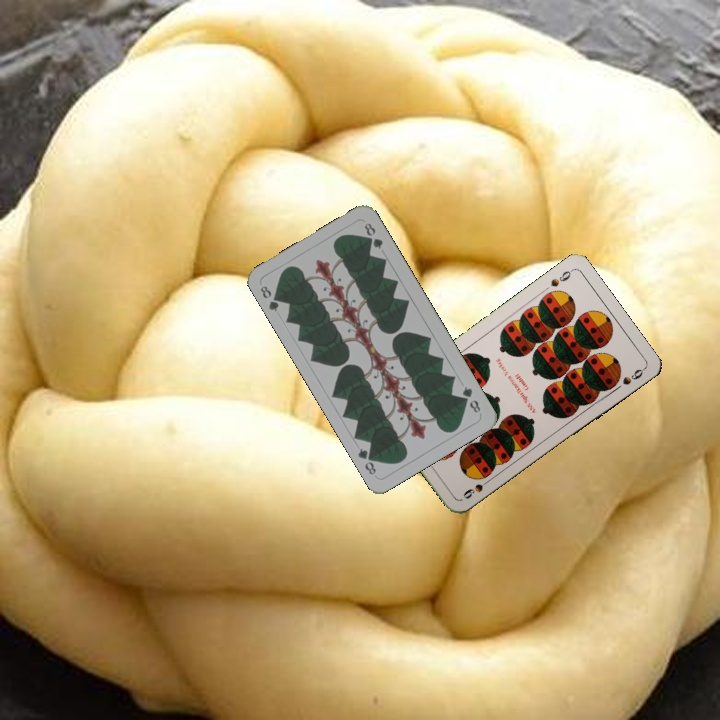G8: (256, 281, 284, 314), (458, 382, 483, 416)
S9: (459, 474, 494, 502), (546, 265, 575, 290)
